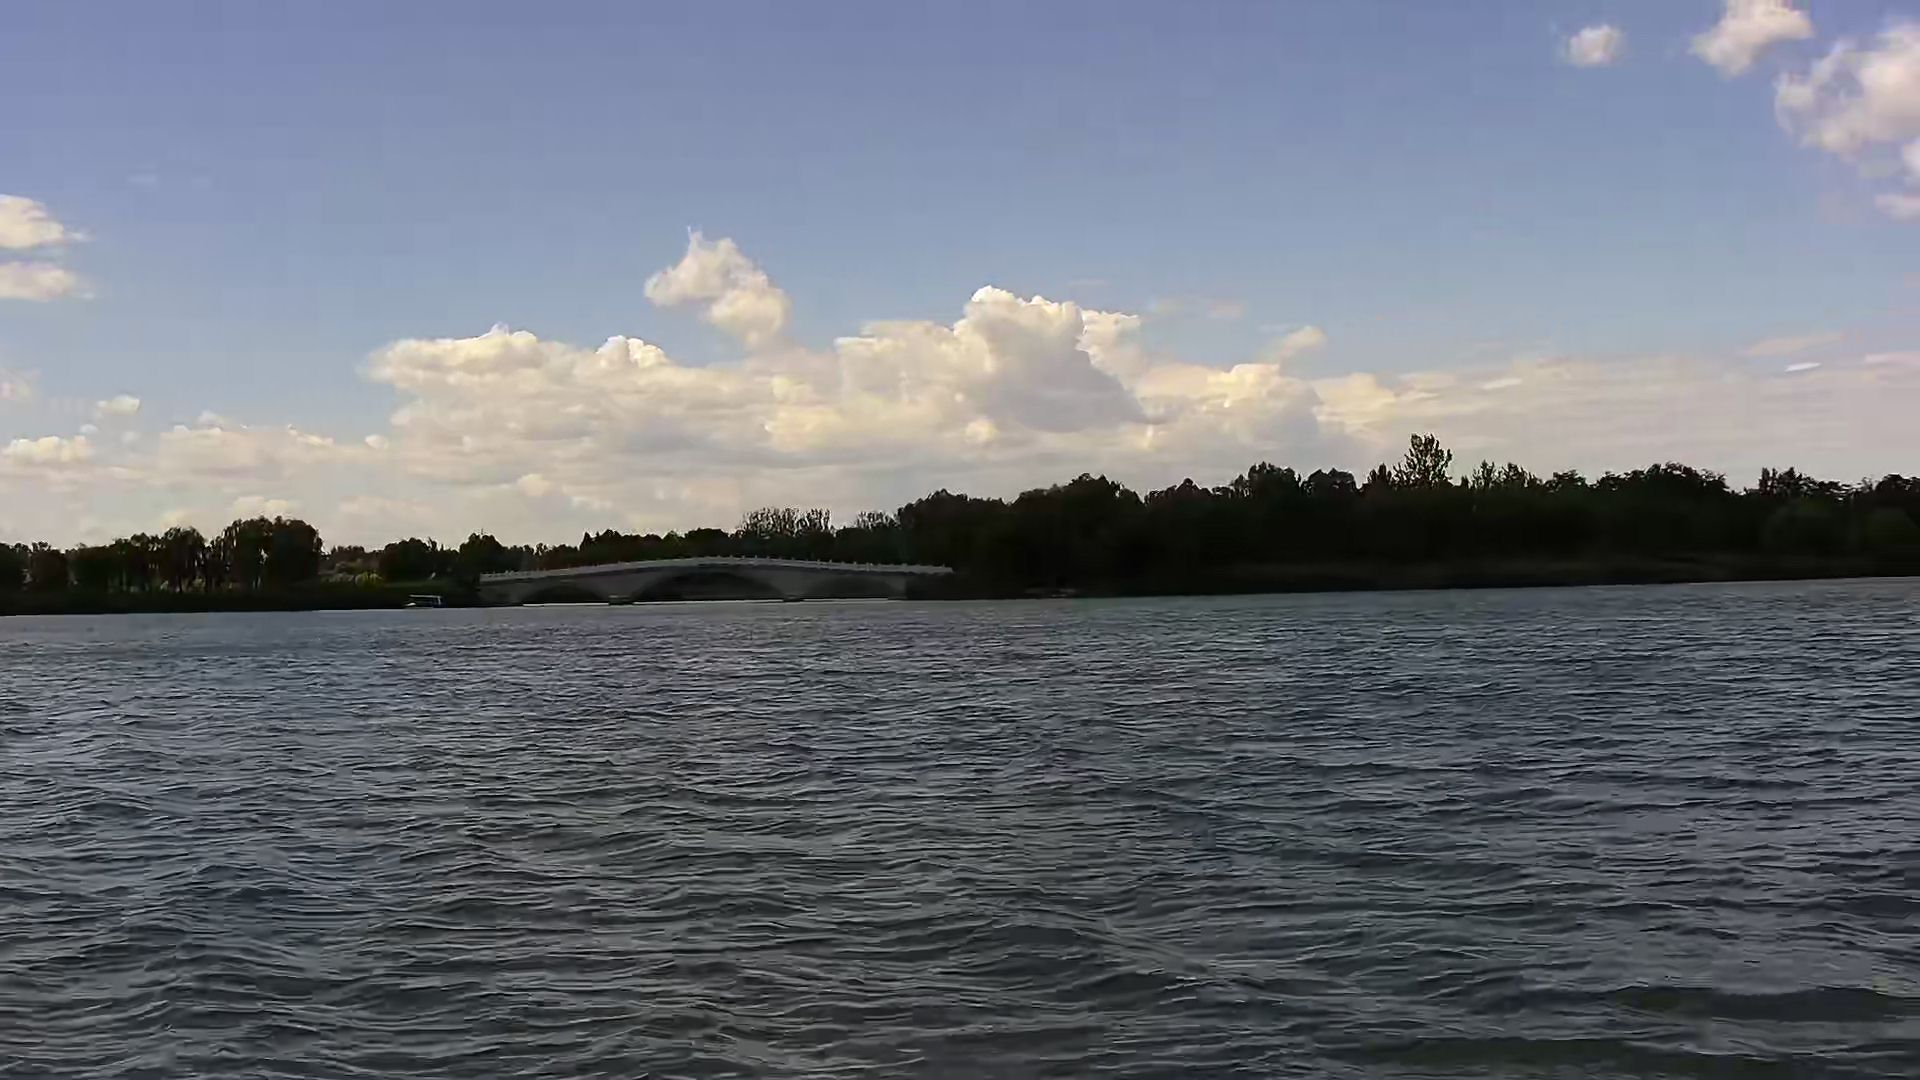bridge: (473, 553, 948, 603)
